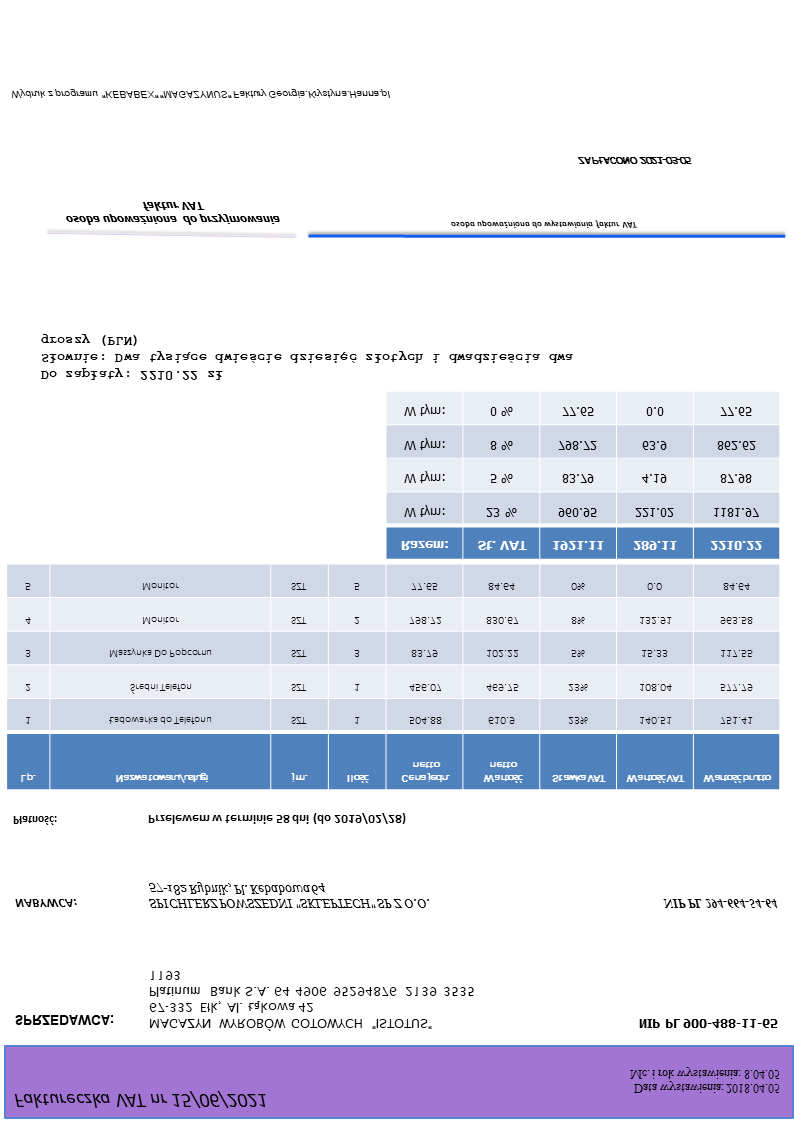Table: (5, 563, 781, 791), (385, 391, 781, 561)
TextBox: (38, 332, 577, 383), (146, 969, 477, 1034), (147, 880, 432, 912), (63, 198, 283, 229), (8, 87, 393, 103), (12, 1090, 268, 1111), (628, 1068, 782, 1098), (146, 812, 407, 826), (635, 1015, 779, 1032), (448, 219, 639, 231), (12, 1011, 116, 1031), (661, 895, 778, 912), (575, 153, 692, 169), (12, 896, 79, 911), (11, 812, 59, 829)
